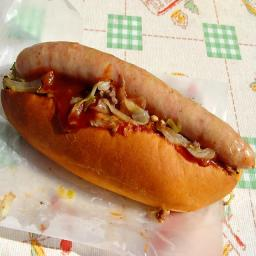hotdog: (3, 32, 256, 245)
